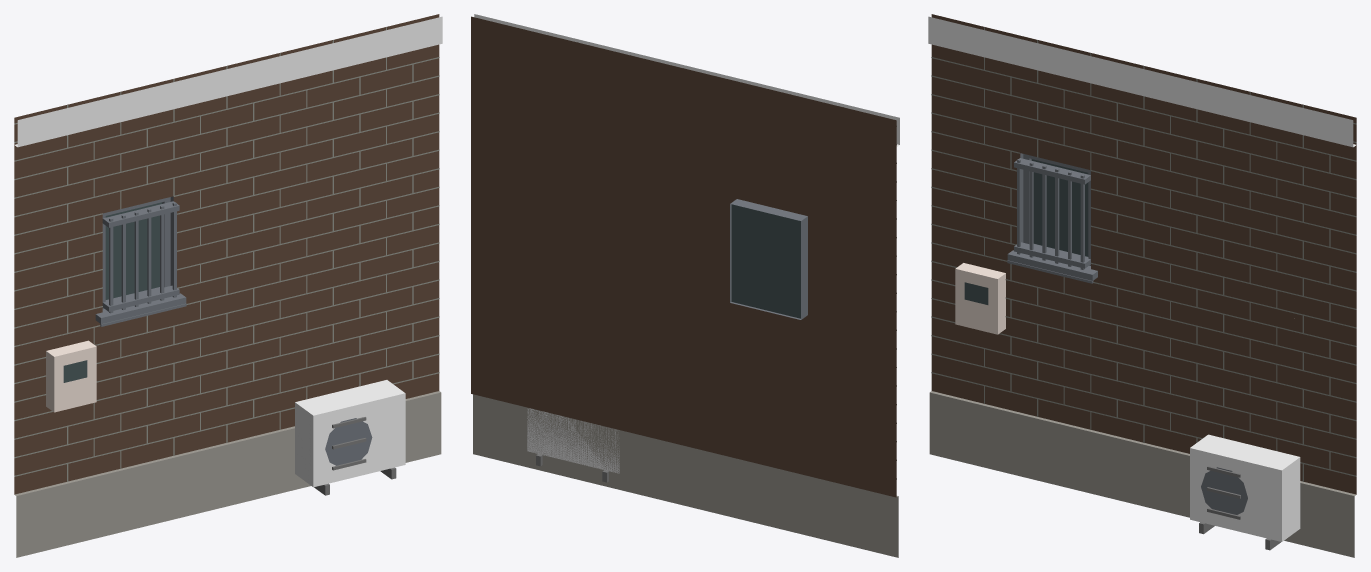
File: base-w2_close.fbx
3 views of the same model, side by side, from view 1: azimuth 30°, elevation 25°; view 2: azimuth 150°, elevation 25°; view 3: azimuth 330°, elevation 25° (orthographic).
Parts seen in each view (by area): view 1: a2000s3/800/base-w2_close; view 2: a2000s3/800/base-w2_close; view 3: a2000s3/800/base-w2_close.
Part boxes in pixels (box(x1,y1,x2,y2)): a2000s3/800/base-w2_close: box(14, 14, 442, 557); a2000s3/800/base-w2_close: box(471, 14, 899, 557); a2000s3/800/base-w2_close: box(928, 14, 1356, 557).
Size of the model in its own units: 3.6 by 3.55 by 0.42.
